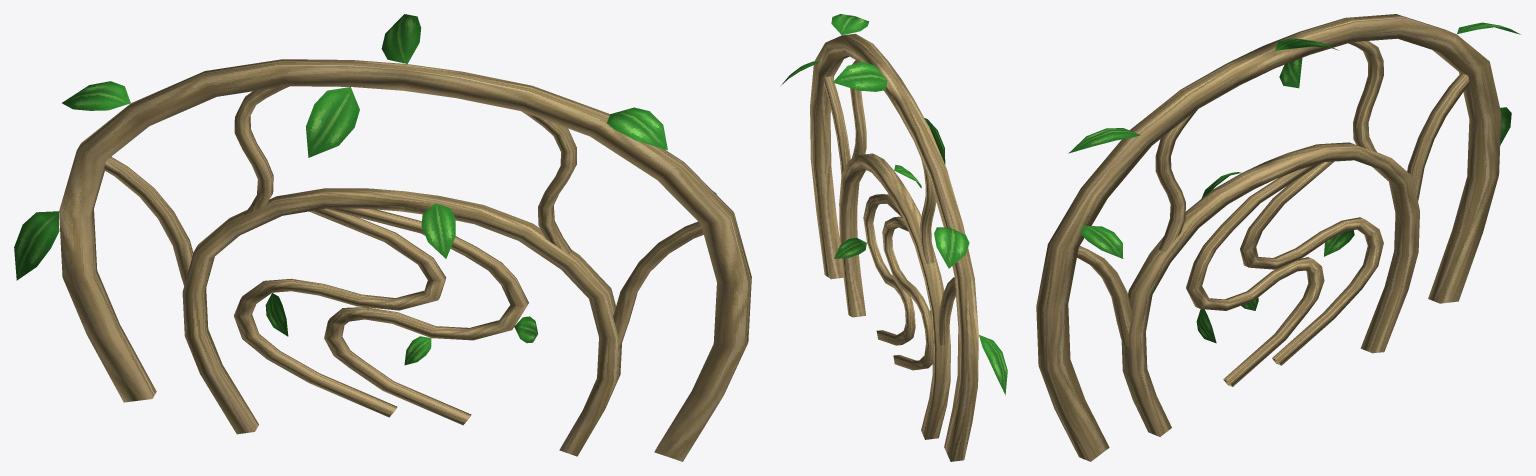
The model's file is EKH_BARRELROOM_PS_JA1_LOFT17.fbx.
The picture shows the model from 3 angles, left to right: view 1: azimuth 30°, elevation 25°; view 2: azimuth 150°, elevation 25°; view 3: azimuth 270°, elevation 25°; orthographic projection. The views are drawn at different scales.
Parts seen in each view (by area): view 1: EKH_BARRELROOM_PS_JA1_LOFT17; view 2: EKH_BARRELROOM_PS_JA1_LOFT17; view 3: EKH_BARRELROOM_PS_JA1_LOFT17.
Boxes of the visible parts, box(x1,y1,x2,y2) form: EKH_BARRELROOM_PS_JA1_LOFT17: box(14, 14, 751, 461); EKH_BARRELROOM_PS_JA1_LOFT17: box(781, 14, 1007, 461); EKH_BARRELROOM_PS_JA1_LOFT17: box(1036, 14, 1520, 461).
Size of the model in its own units: 18173 by 14392 by 16996.
Materials: 2 (2 with a texture image).
